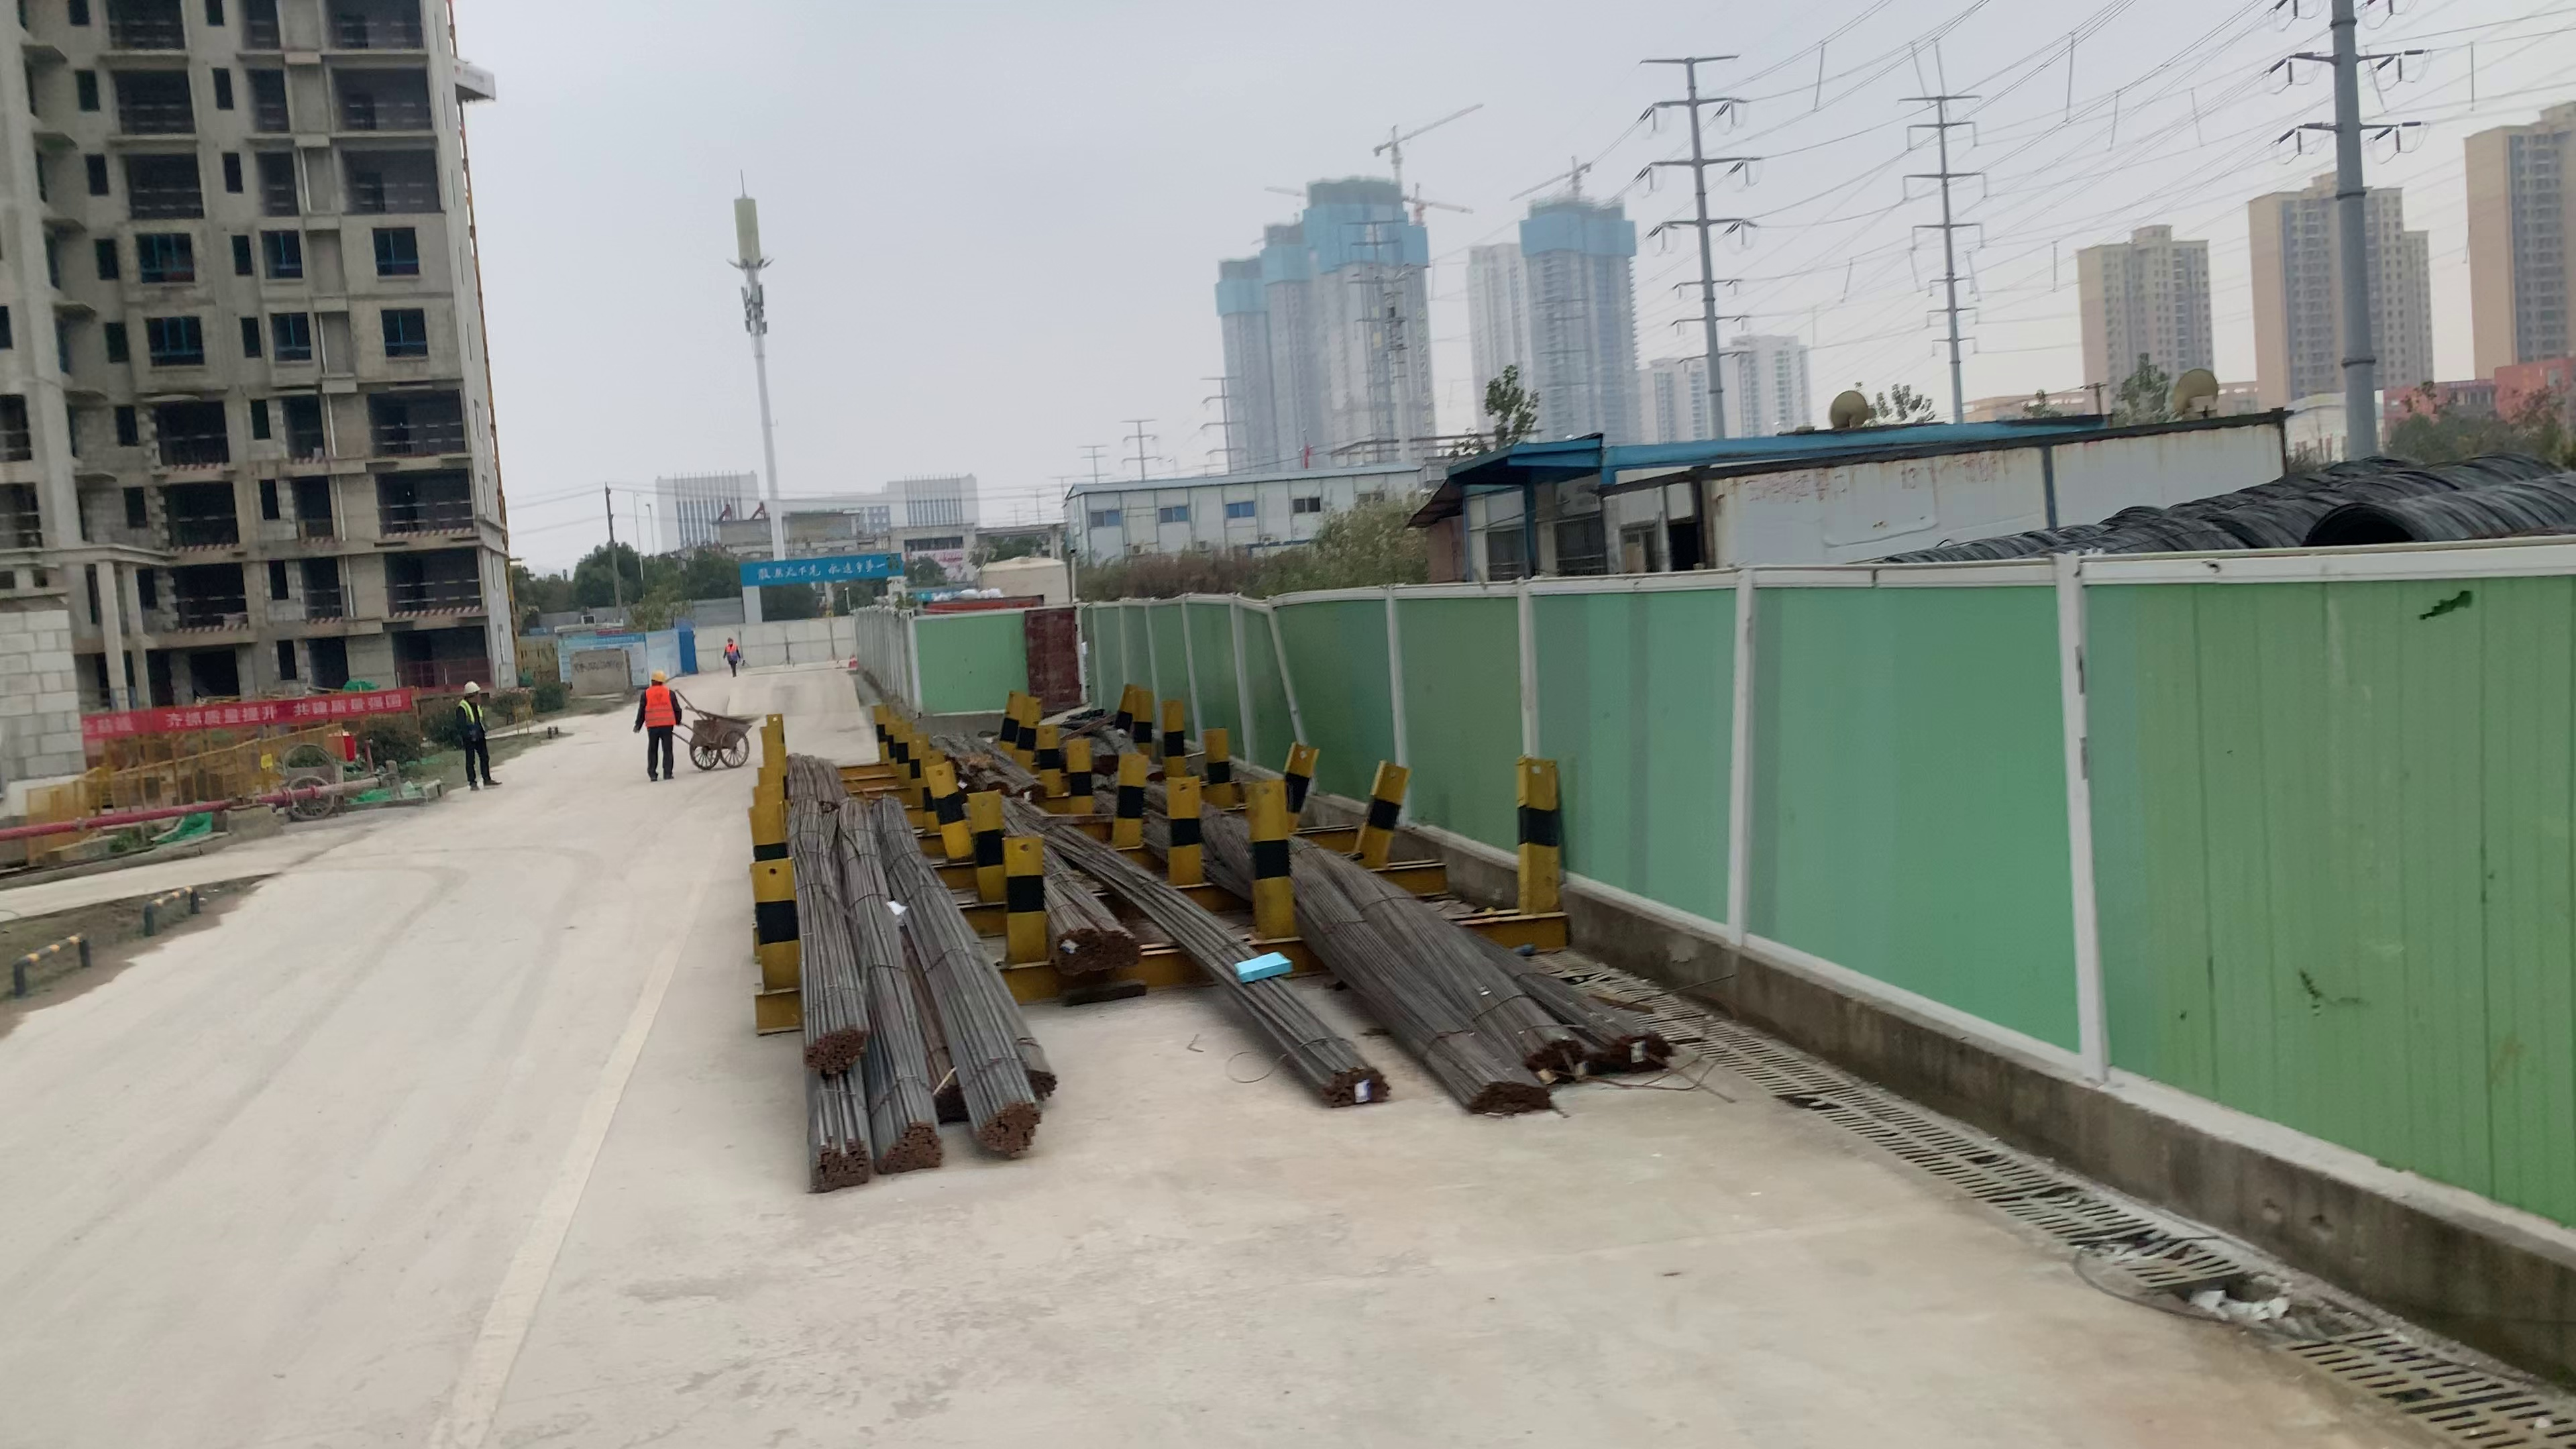rebar: (791, 1019, 872, 1072), (970, 1099, 1039, 1157), (1313, 1063, 1401, 1108), (1601, 1031, 1670, 1076), (1474, 1083, 1548, 1123), (809, 1138, 869, 1184), (881, 1127, 939, 1171), (1536, 1035, 1589, 1081), (1047, 931, 1099, 970), (929, 1072, 970, 1118), (1100, 931, 1139, 970), (1024, 1060, 1060, 1102)
